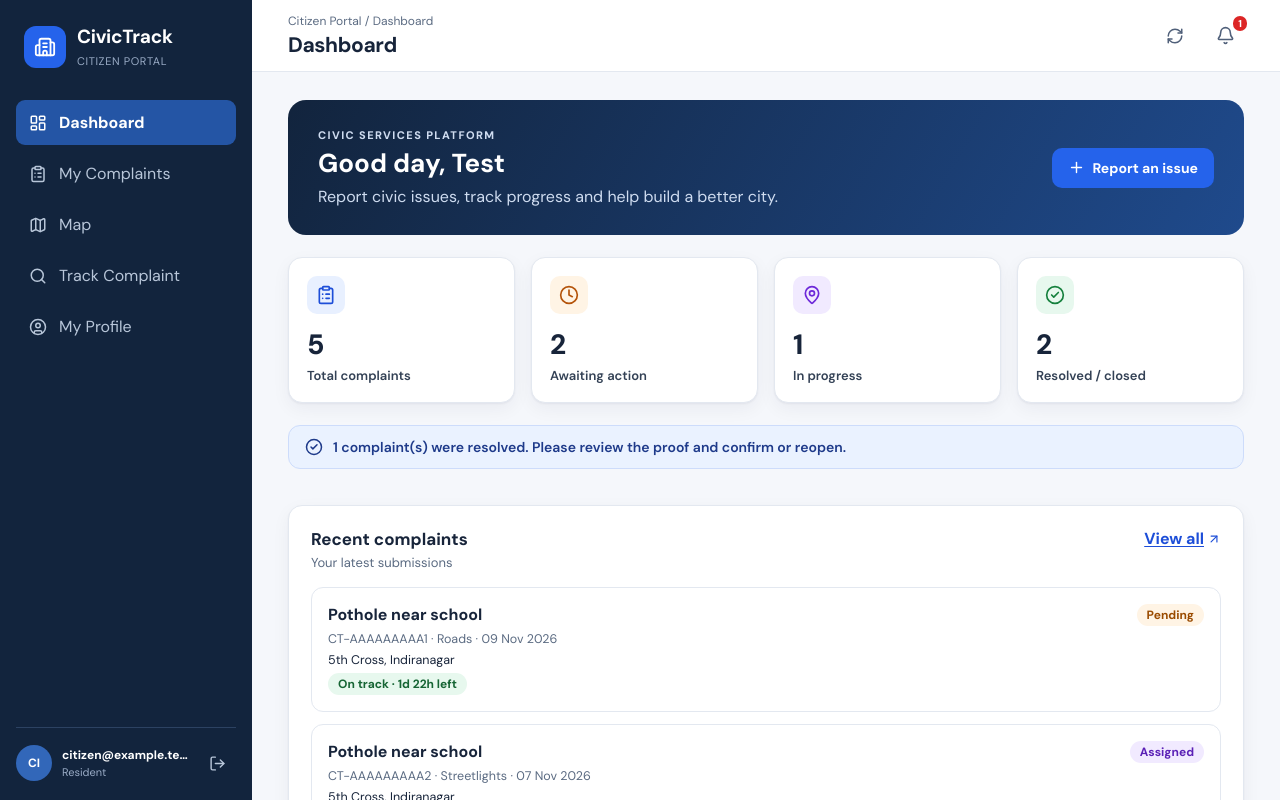
Test: citizen intelligence and feedback › warns about nearby duplicates and suggests a category before submitting
Later steps or results of the test are not shown.
Click the button "Report an issue" at [1133, 168], box [1052, 148, 1214, 188]
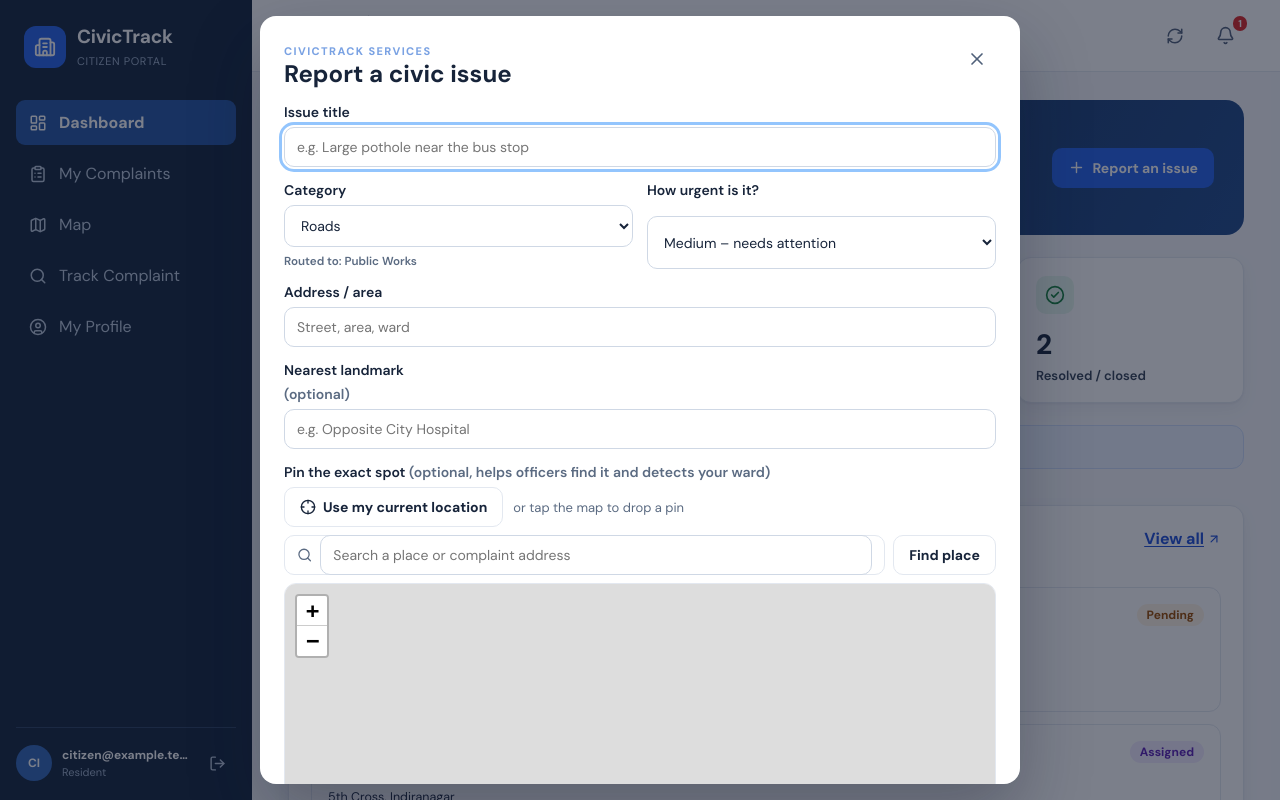
Now the text "Routed to: Public Works" is shown, box [284, 253, 417, 269]
Type "Lamp post dark" into the field labelled "Issue title" at [640, 147], box [284, 127, 996, 167]
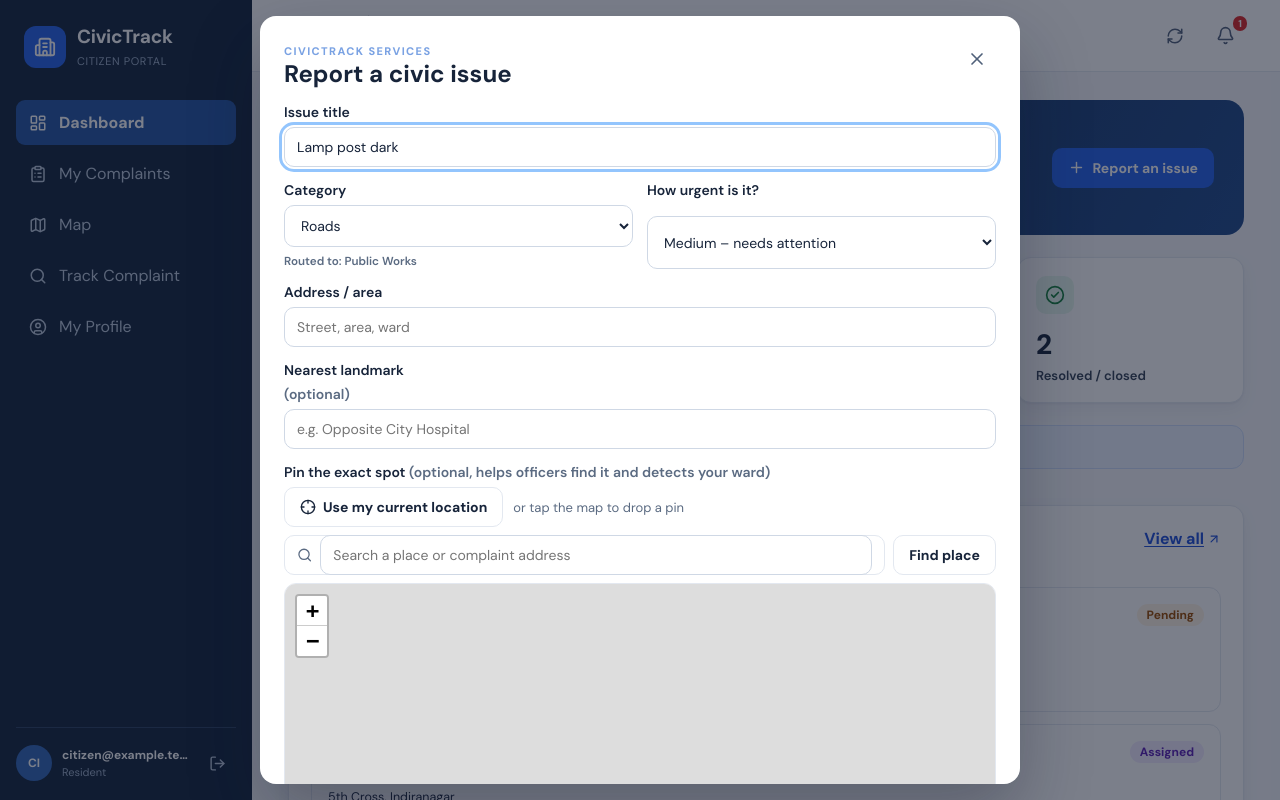
Type "MG Road" into the field labelled "Address / area" at [640, 327], box [284, 307, 996, 347]
(page scrolled)
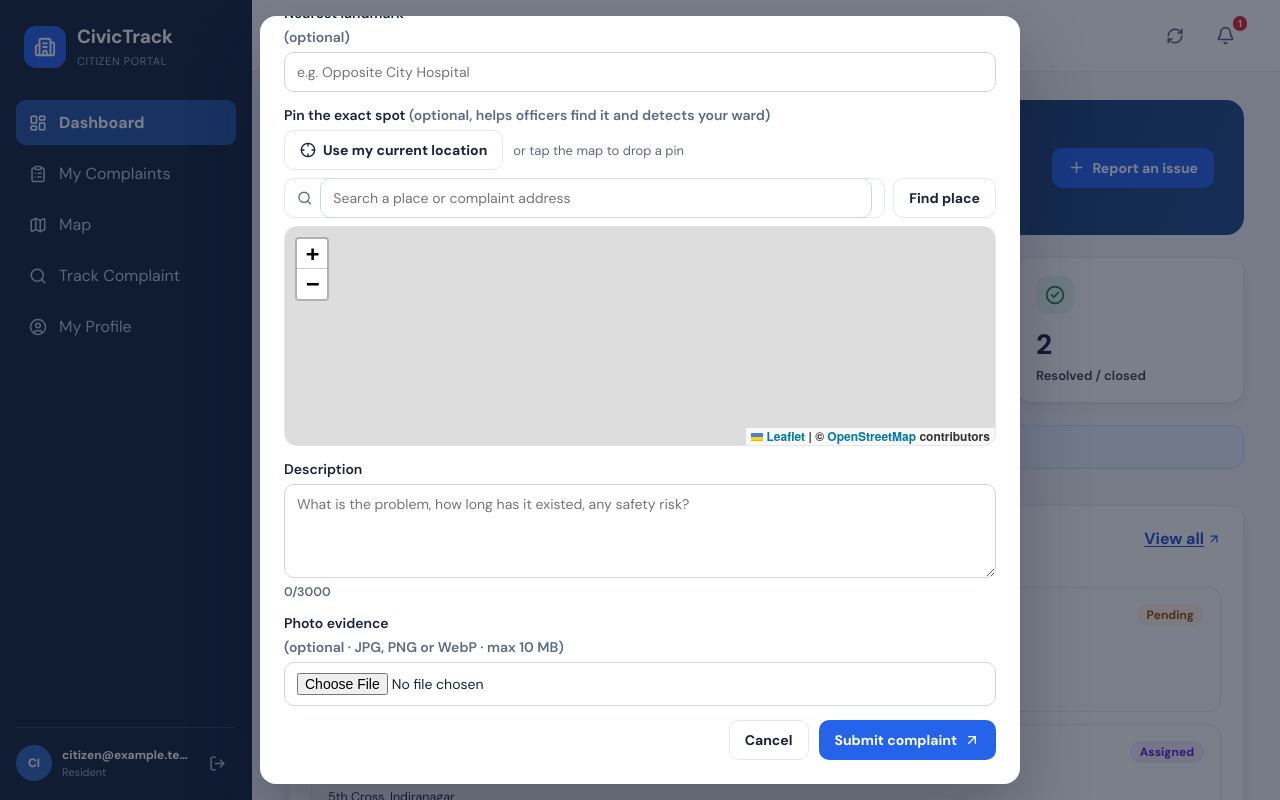
Type "Street light not working at night" into the text box labelled "Description 0/3000" at [640, 531], box [284, 484, 996, 578]
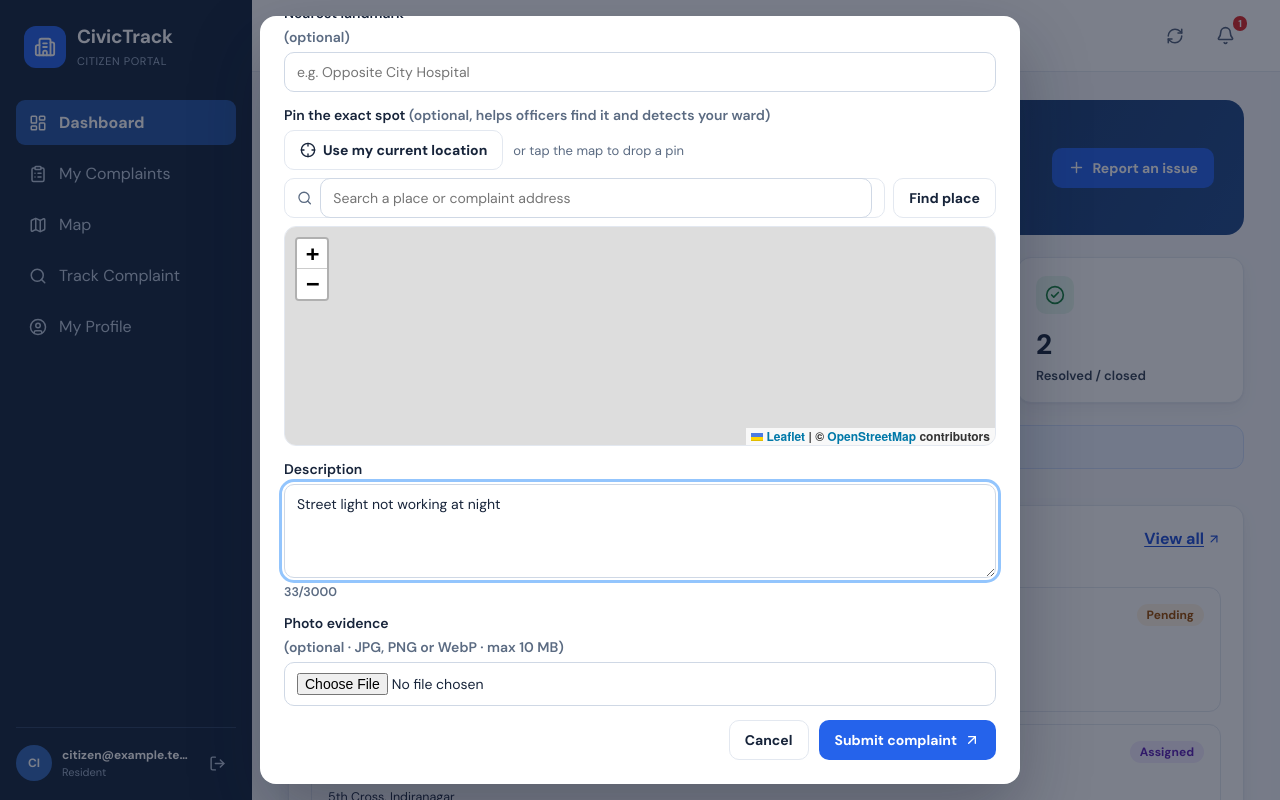
Click the button "Submit complaint" at [907, 740], box [818, 720, 996, 760]
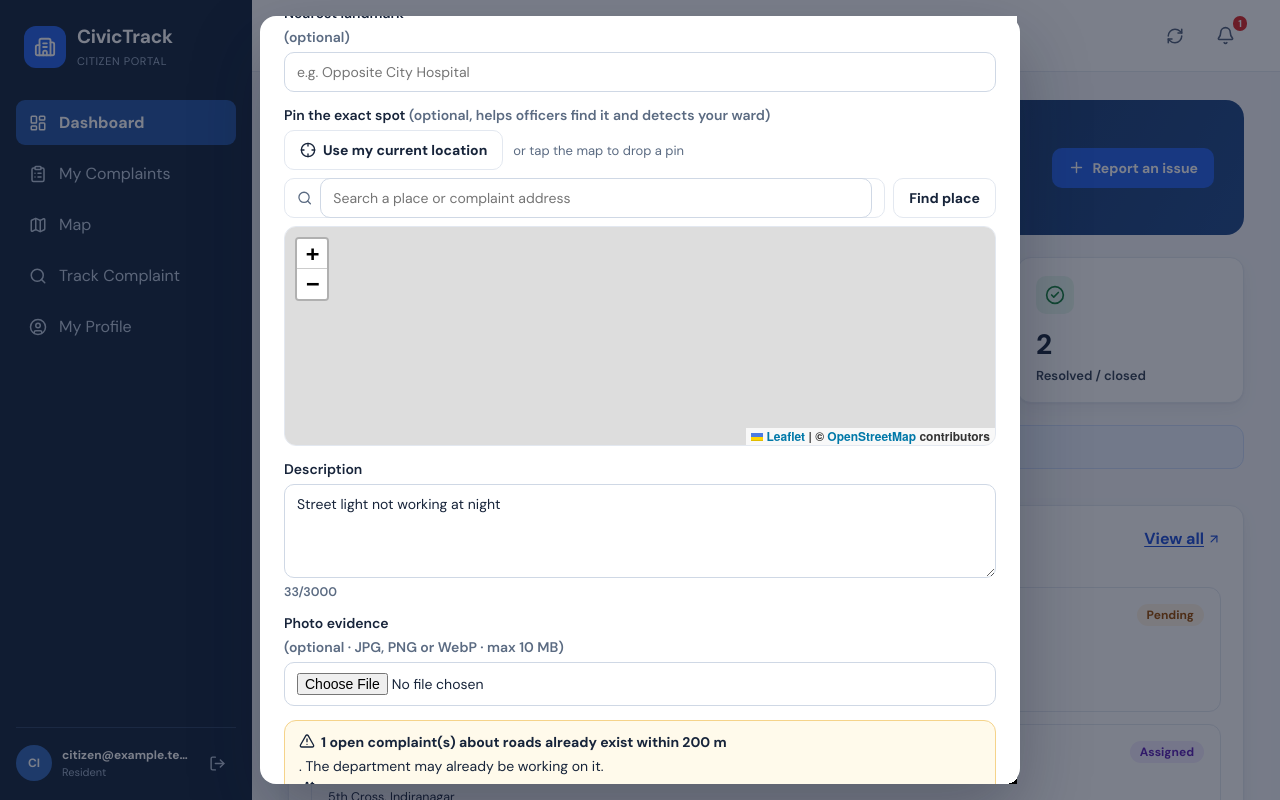
Now the text "1 open complaint(s) about roads already exist within 200 m" is shown, box [321, 733, 727, 751]
